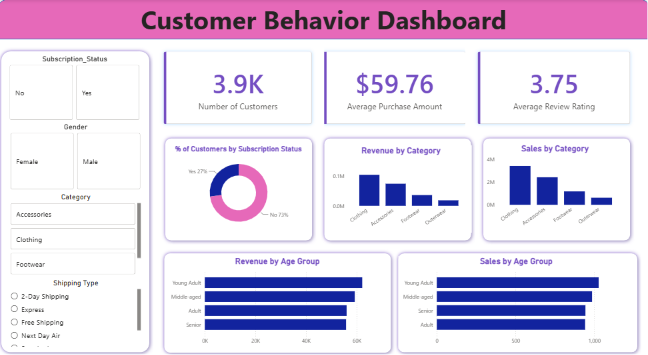

The page's visual inventory and layout, read from the dashboard file:
{"tool":"powerbi","page":{"name":"Page 1","canvas":[1500,820],"ordinal":0},"visuals":[{"type":"shape","box":[374.8,573.1,538.3,246.2],"z":0},{"type":"cardVisual","fields":{"Data":["public customer.Average Purchase Amount"]},"box":[718.3,91.8,385.5,222.6],"z":1000},{"type":"cardVisual","fields":{"Data":["public customer.Average Review Rating"]},"box":[1074,91.8,406.2,222.6],"z":2000},{"type":"cardVisual","fields":{"Data":["public customer.Number of Customers"]},"box":[353.4,91.8,397,222.6],"z":3000},{"type":"shape","box":[0,0,1498.5,91.8],"z":4000},{"type":"textbox","box":[0,0,1498.5,220.3],"z":5000},{"type":"shape","box":[377,309.4,355.2,252.8],"z":6000},{"type":"donutChart","title":"% of Customers by Subscription Status","fields":{"Category":["public customer.subscription_status"],"Y":["CountNonNull(public customer.customer_id)"]},"box":[387.9,333.4,331.2,202.7],"z":7000},{"type":"shape","box":[1107,309.4,355.2,252.8],"z":8000},{"type":"shape","box":[742,309.4,355.2,252.8],"z":9000},{"type":"clusteredColumnChart","title":"Revenue by Category","fields":{"Y":["Sum(public customer.purchase_amount)"],"Category":["public customer.category"]},"box":[764.9,335.6,324.7,200.5],"z":10000},{"type":"clusteredColumnChart","title":"Sales by Category","fields":{"Y":["Sum(public customer.customer_id)"],"Category":["public customer.category"]},"box":[1117.9,331.2,324.7,202.7],"z":11000},{"type":"shape","box":[0,110.1,358,709.1],"z":12000},{"type":"advancedSlicerVisual","fields":{"Values":["public customer.subscription_status"]},"box":[22.9,126.2,309.8,156],"z":13000},{"type":"advancedSlicerVisual","fields":{"Values":["public customer.gender"]},"box":[25.2,282.3,309.8,158.3],"z":14000},{"type":"advancedSlicerVisual","fields":{"Values":["public customer.category"]},"box":[25.2,442.9,309.8,192.8],"z":15000},{"type":"listSlicer","fields":{"Values":["public customer.shipping_type"]},"box":[25.2,640.2,309.8,160.6],"z":16000},{"type":"clusteredBarChart","title":"Revenue by Age Group","fields":{"Y":["Sum(public customer.purchase_amount)"],"Category":["public customer.age_group"]},"box":[387.9,590.6,509.9,211.4],"z":17000},{"type":"shape","box":[911,573.7,566.8,245.5],"z":18000},{"type":"clusteredBarChart","title":"Sales by Age Group","fields":{"Y":["CountNonNull(public customer.customer_id)"],"Category":["public customer.age_group"]},"box":[920.2,589.8,541.6,211.1],"z":19000}]}

Visuals, with their boxes in screenshot pixels (x1, y1, x2, y2), scaled from the page's 1500x820 canvas onto the 648x355 screenshot:
shape: bbox(162, 248, 394, 354)
cardVisual - public customer.Average Purchase Amount: bbox(310, 40, 477, 136)
cardVisual - public customer.Average Review Rating: bbox(464, 40, 639, 136)
cardVisual - public customer.Number of Customers: bbox(153, 40, 324, 136)
shape: bbox(0, 0, 647, 40)
textbox: bbox(0, 0, 647, 95)
shape: bbox(163, 134, 316, 243)
"% of Customers by Subscription Status" donutChart: bbox(168, 144, 311, 232)
shape: bbox(478, 134, 632, 243)
shape: bbox(321, 134, 474, 243)
"Revenue by Category" clusteredColumnChart: bbox(330, 145, 471, 232)
"Sales by Category" clusteredColumnChart: bbox(483, 143, 623, 231)
shape: bbox(0, 48, 155, 354)
advancedSlicerVisual - public customer.subscription_status: bbox(10, 55, 144, 122)
advancedSlicerVisual - public customer.gender: bbox(11, 122, 145, 191)
advancedSlicerVisual - public customer.category: bbox(11, 192, 145, 275)
listSlicer - public customer.shipping_type: bbox(11, 277, 145, 347)
"Revenue by Age Group" clusteredBarChart: bbox(168, 256, 388, 347)
shape: bbox(394, 248, 638, 354)
"Sales by Age Group" clusteredBarChart: bbox(398, 255, 631, 347)
